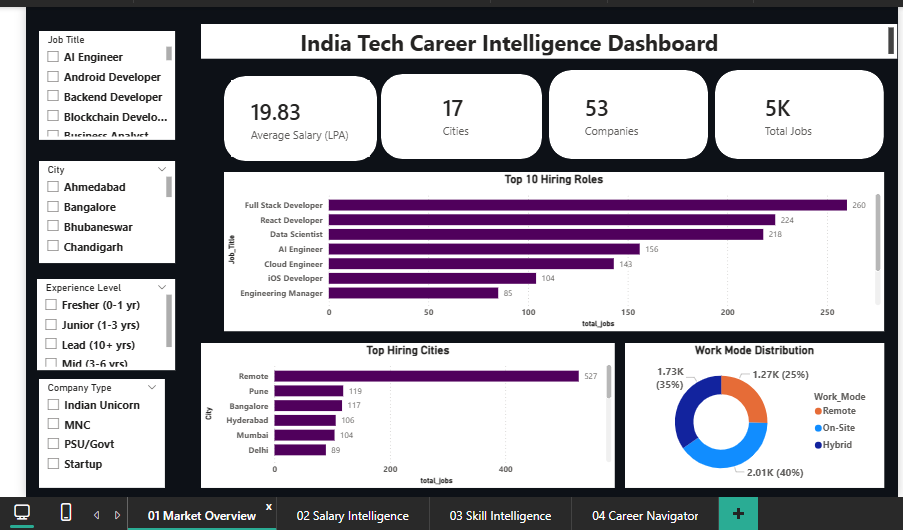

What the dashboard file says about the page in this screenshot:
{"tool":"powerbi","page":{"name":"01 Market Overview","canvas":[1280,720],"ordinal":0},"visuals":[{"type":"shape","box":[1012.4,92.6,248.3,130.8],"z":0},{"type":"cardVisual","fields":{"Data":["india_job_market_2024_2026.Total Jobs"]},"box":[1056.5,101.4,161.6,113.1],"z":1000},{"type":"shape","box":[768.5,92.6,233.6,130.8],"z":2000},{"type":"cardVisual","fields":{"Data":["Count(india_job_market_2024_2026.Company)"]},"box":[792,98.4,186.6,119],"z":3000},{"type":"shape","box":[290.9,101.4,224.8,124.9],"z":4000},{"type":"shape","box":[521.6,98.4,236.6,124.9],"z":5000},{"type":"cardVisual","fields":{"Data":["Avg(india_job_market_2024_2026.Salary_LPA)"]},"box":[301.2,107.3,204.2,113.1],"z":6000},{"type":"cardVisual","fields":{"Data":["Count(india_job_market_2024_2026.City)"]},"box":[583.3,101.4,132.2,113.1],"z":7000},{"type":"clusteredBarChart","title":"Top 10 Hiring Roles","fields":{"Y":["CountNonNull(india_job_market_2024_2026.Job_ID)"],"Category":["india_job_market_2024_2026.Job_Title"]},"box":[290.9,242.4,969.8,233.6],"z":8000},{"type":"clusteredBarChart","title":"Top Hiring Cities","fields":{"Category":["india_job_market_2024_2026.City"],"Y":["CountNonNull(india_job_market_2024_2026.Job_ID)"]},"box":[257.1,493.7,608.3,213.1],"z":9000},{"type":"donutChart","title":"Work Mode Distribution ","fields":{"Category":["india_job_market_2024_2026.Work_Mode"],"Y":["CountNonNull(india_job_market_2024_2026.Job_ID)"]},"box":[880.2,493.7,380.6,213.1],"z":10000},{"type":"textbox","box":[257.1,25,1022.7,51.4],"z":11000},{"type":"slicer","fields":{"Values":["india_job_market_2024_2026.Job_Title"]},"box":[19.1,35.3,199.8,160.2],"z":12000},{"type":"slicer","fields":{"Values":["india_job_market_2024_2026.Experience_Level"]},"box":[16.2,399.7,202.8,133.7],"z":13000},{"type":"slicer","fields":{"Values":["india_job_market_2024_2026.City"]},"box":[19.1,226.3,199.8,149.9],"z":14000},{"type":"slicer","fields":{"Values":["india_job_market_2024_2026.Company_Type"]},"box":[19.1,546.6,185.1,160.2],"z":15000}]}

Visuals, with their boxes in screenshot pixels (x1, y1, x2, y2):
shape: 705,69,872,157
cardVisual - india_job_market_2024_2026.Total Jobs: 735,75,843,151
shape: 542,69,698,157
cardVisual - Count(india_job_market_2024_2026.Company): 557,73,683,153
shape: 221,75,372,159
shape: 376,73,535,157
cardVisual - Avg(india_job_market_2024_2026.Salary_LPA): 228,79,365,155
cardVisual - Count(india_job_market_2024_2026.City): 417,75,506,151
"Top 10 Hiring Roles" clusteredBarChart: 221,170,872,326
"Top Hiring Cities" clusteredBarChart: 198,338,607,481
"Work Mode Distribution " donutChart: 617,338,872,481
textbox: 198,24,885,58
slicer - india_job_market_2024_2026.Job_Title: 39,31,173,138
slicer - india_job_market_2024_2026.Experience_Level: 37,275,173,365
slicer - india_job_market_2024_2026.City: 39,159,173,259
slicer - india_job_market_2024_2026.Company_Type: 39,374,163,481
